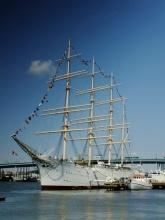fanchuan: (13, 37, 138, 188)
